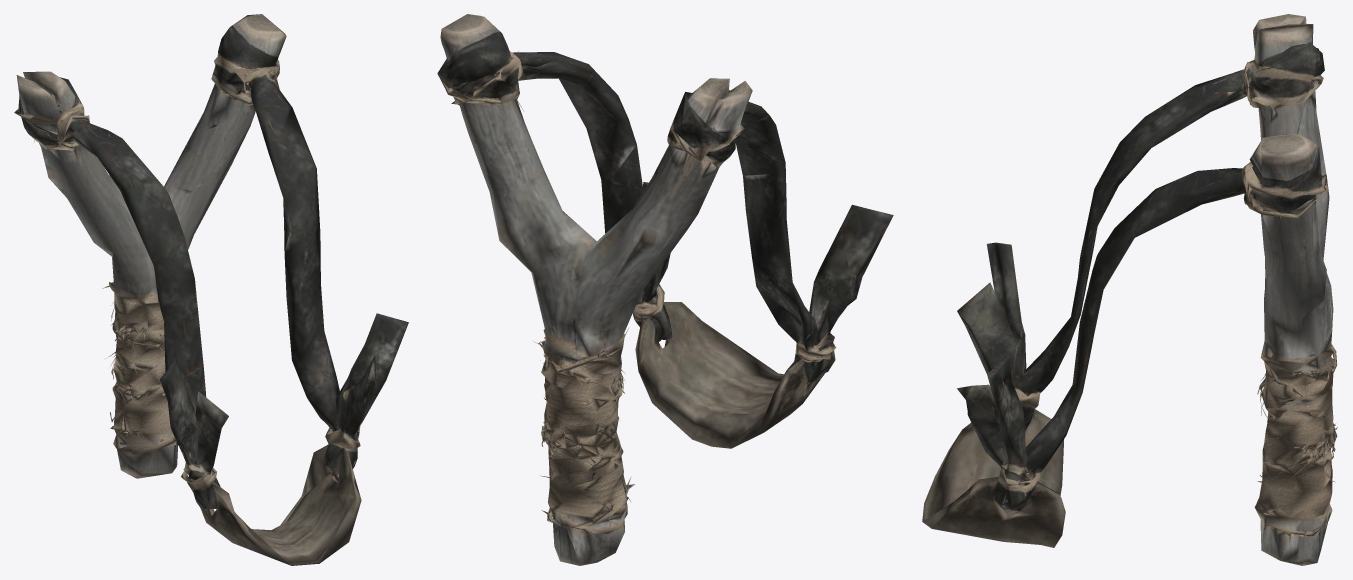
File: slingshot.05550246.glb
3 views of the same model, side by side, from view 1: azimuth 30°, elevation 25°; view 2: azimuth 150°, elevation 25°; view 3: azimuth 270°, elevation 25° (orthographic). The views are drawn at different scales.
Parts seen in each view (by area): view 1: item; view 2: item; view 3: item.
Part boxes in pixels (left/top/right/bottom): item: left=14, top=14, right=408, bottom=565; item: left=437, top=14, right=893, bottom=565; item: left=922, top=14, right=1337, bottom=565.
Size of the model in its own units: 0.1439 by 0.2262 by 0.1793.
Materials: 1 (1 with a texture image).
